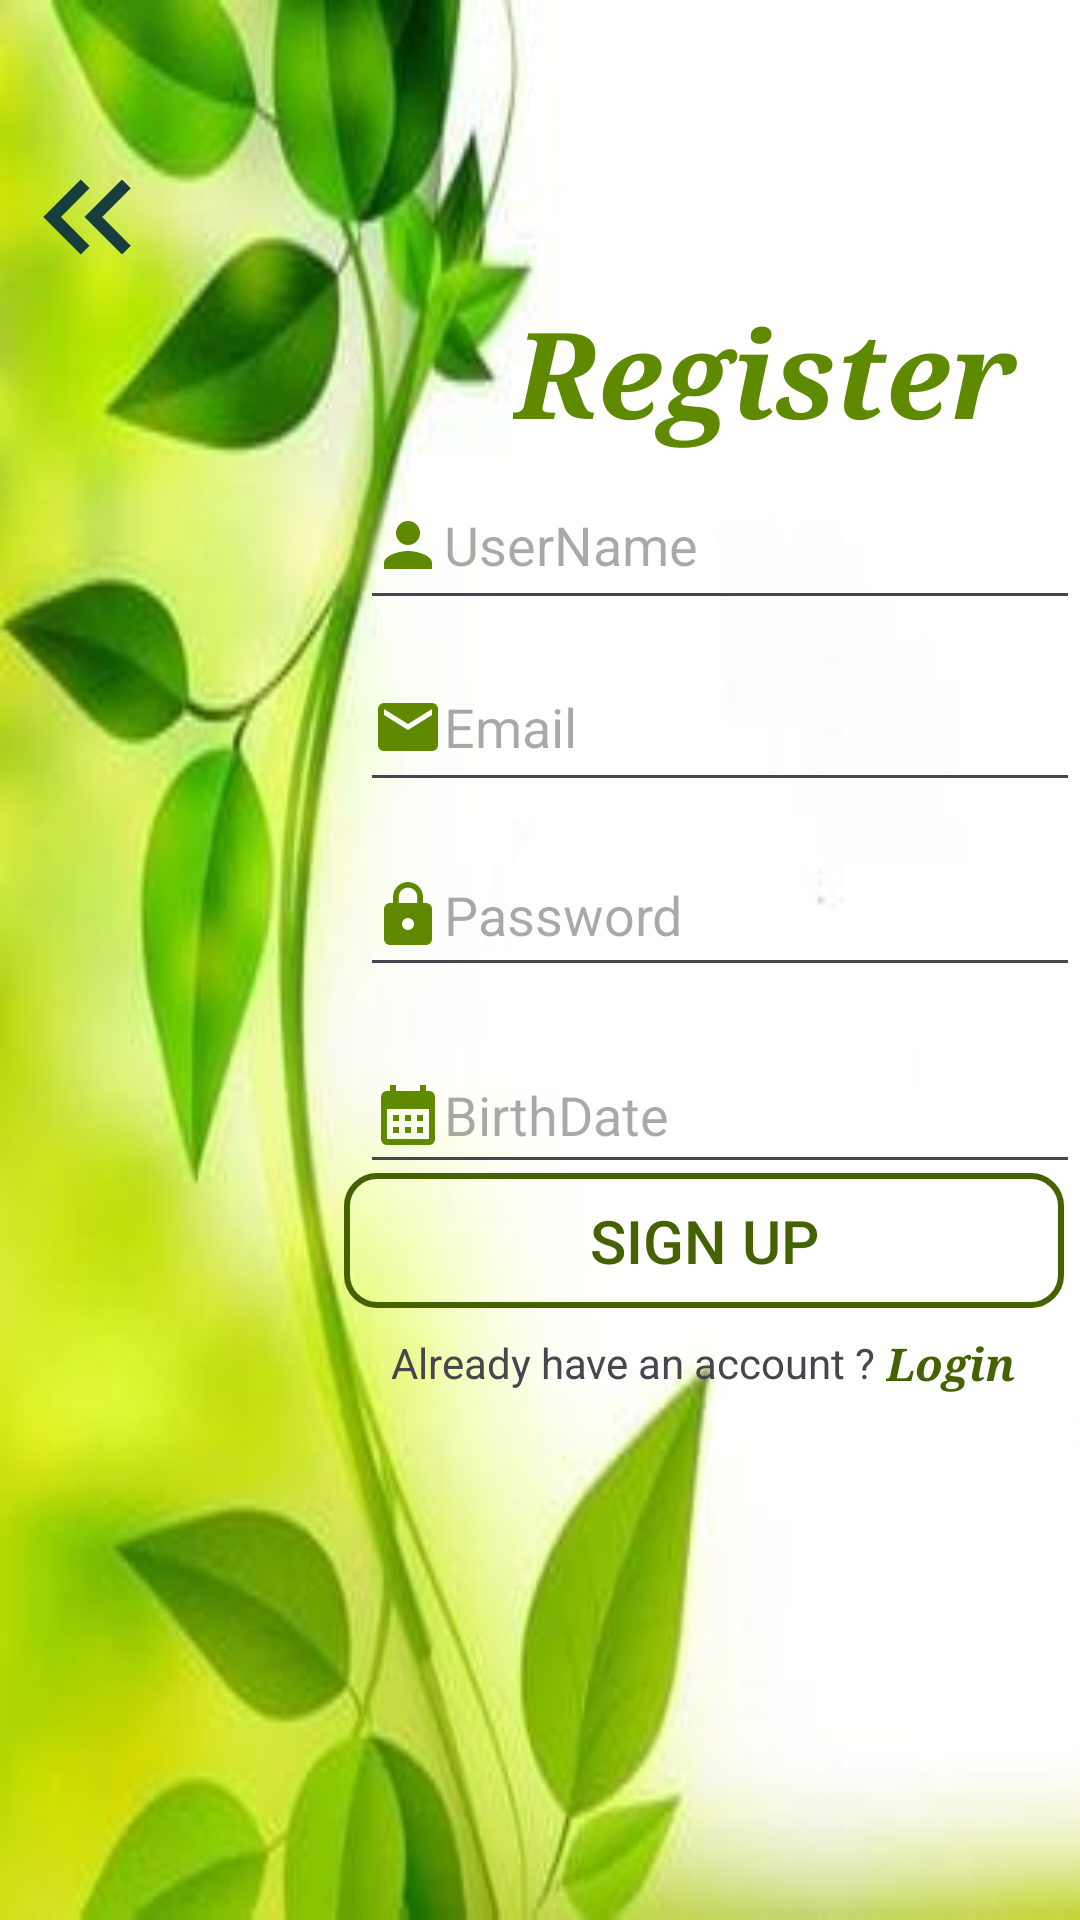

Screen size 1080*1920. Icon name, then its center in pixels as (x,y):
keyboard double arrow left: (87,217)
